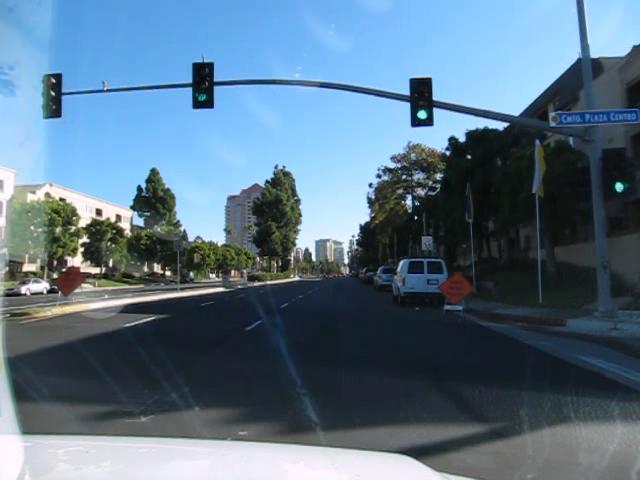speedLimit35: (420, 235, 434, 251)
